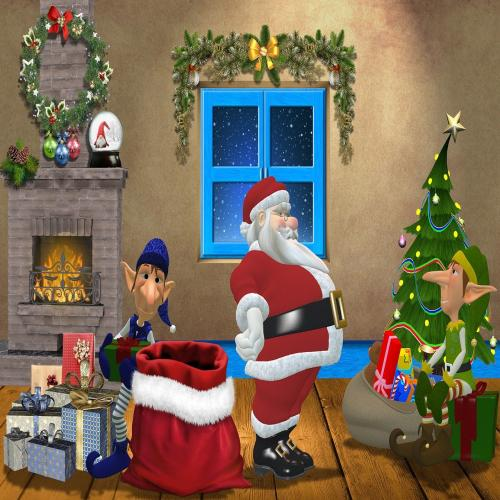Santa: (230, 176, 346, 480)
